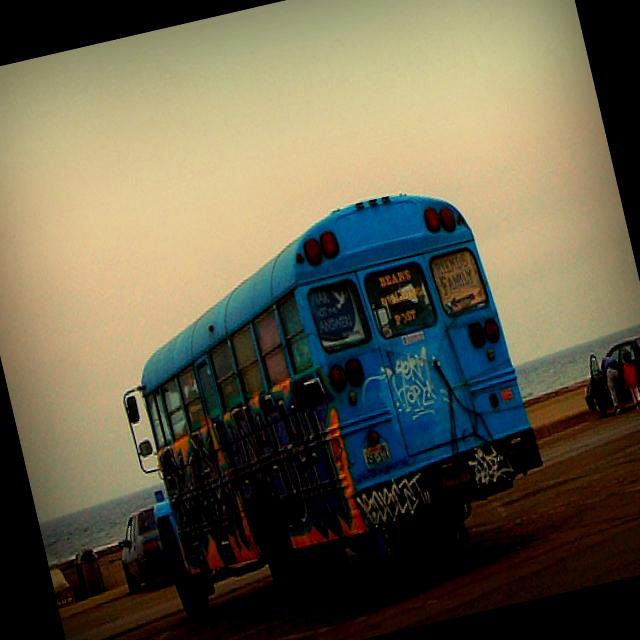Vehicle: (92, 176, 559, 634), (571, 328, 640, 417), (110, 505, 173, 594)
